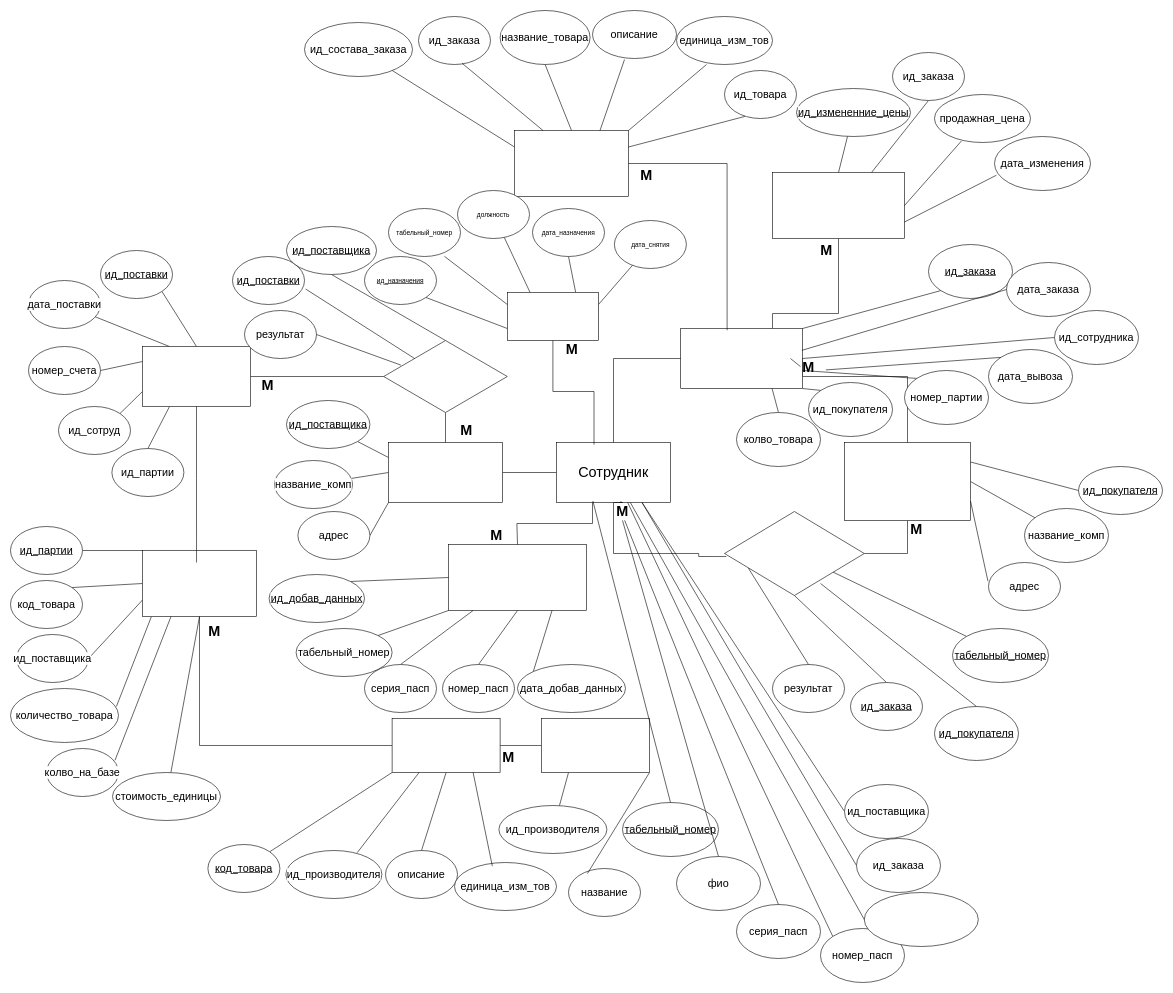
Some shapes in this 1173 by 993 pixel diagram are drawn without their labels. Each missing label, with the centre of its shape:
"Выполнение_заказа" goes at [794,553].
"Выполнение_поставки" goes at [445,376].
"Должности" goes at [552,316].
"Заказ" goes at [741,358].
"История_паспортов" goes at [517,577].
"История_цен" goes at [838,205].
"количество_ставок" goes at [921,919].
"Партия_товара" goes at [199,583].
"Покупатель" goes at [907,481].
"Поставка" goes at [196,376].
"Поставщик" goes at [445,472].
"Производитель" goes at [595,745].
"Состав_заказа" goes at [571,163].
"Товар" goes at [446,745].
